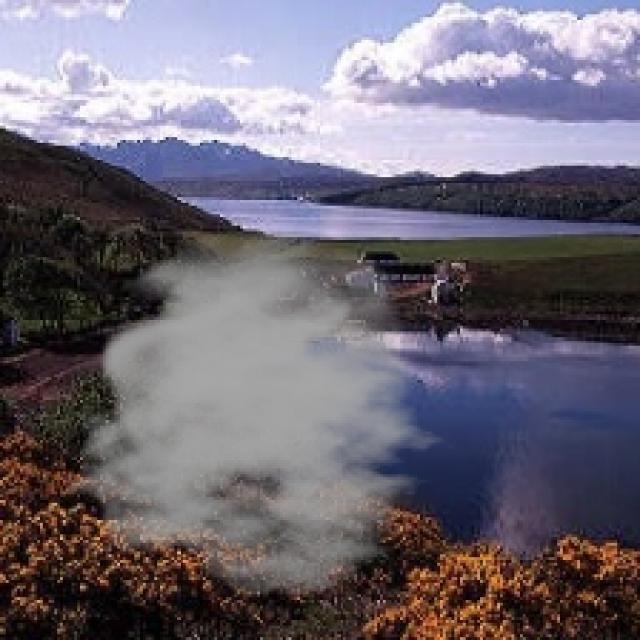smoke: (66, 232, 463, 597)
